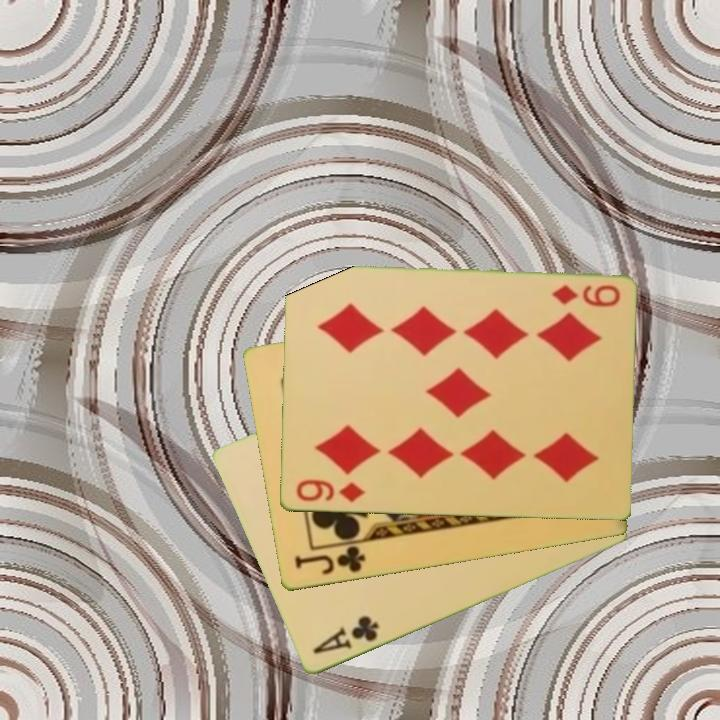9d: (548, 281, 623, 311), (292, 477, 367, 506)
Ac: (309, 612, 382, 658)
Jc: (290, 542, 368, 578)
